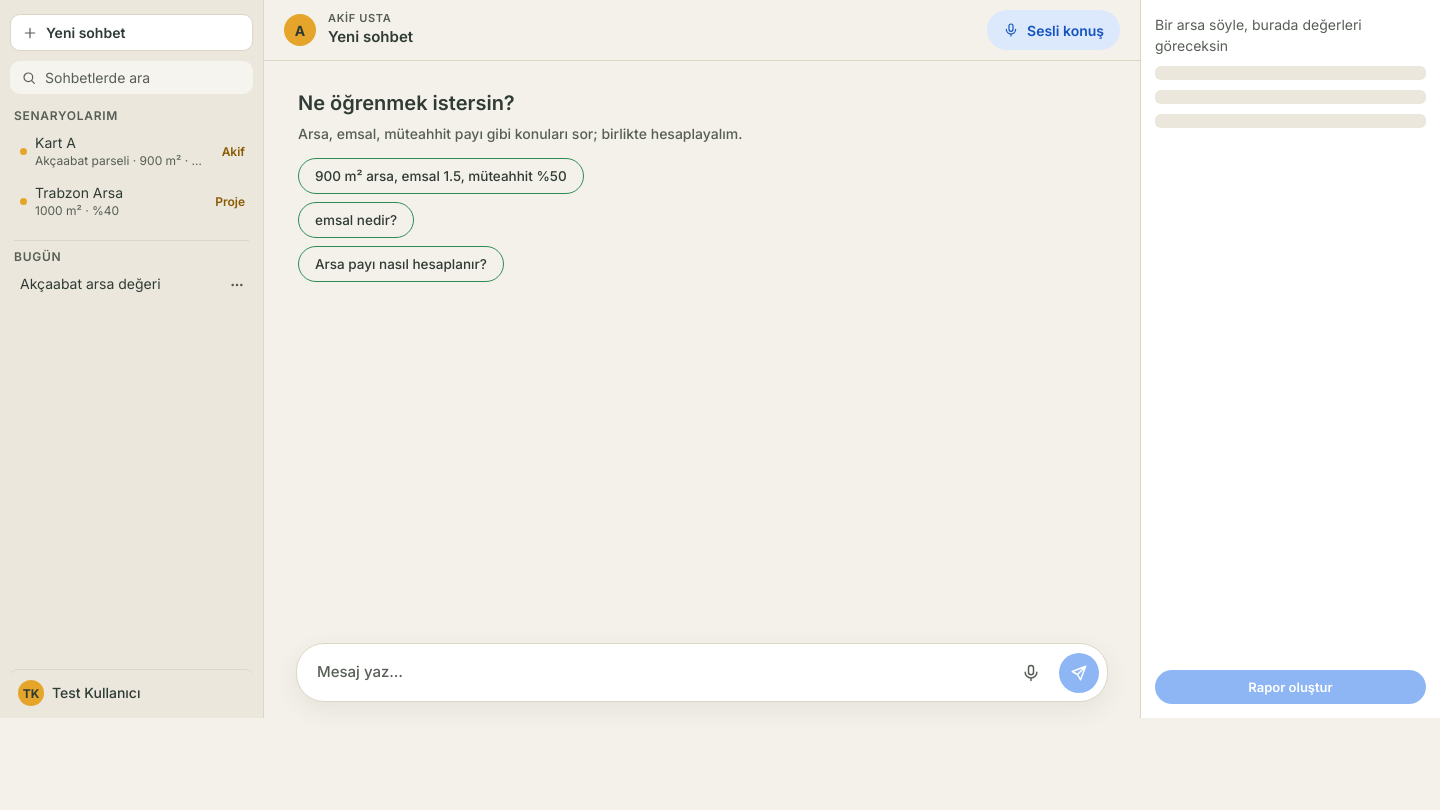
it: canlı tur paneldeki değeri değiştirirse data-changed çıkar ve ~1,6 sn sonra temizlenir
The image size is (1440, 810).
Click the button "Akçaabat arsa değeri" at (116, 285), box [10,268,223,301]
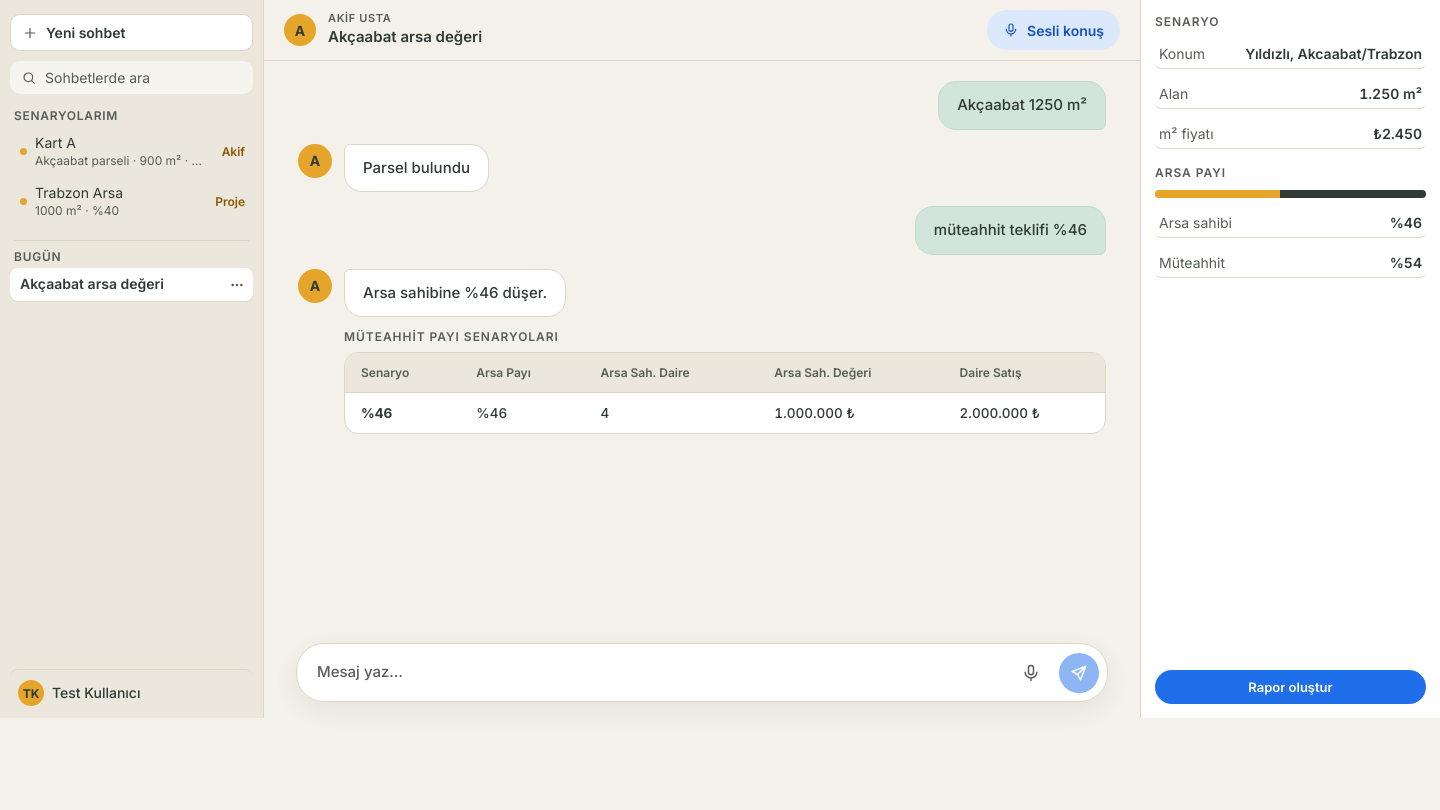
Expected: the text "Arsa sahibine %46 düşer." is shown, [344,268,566,317]
Type "yüzde elli yap" into the text box at (660, 672), box [317,652,1003,693]
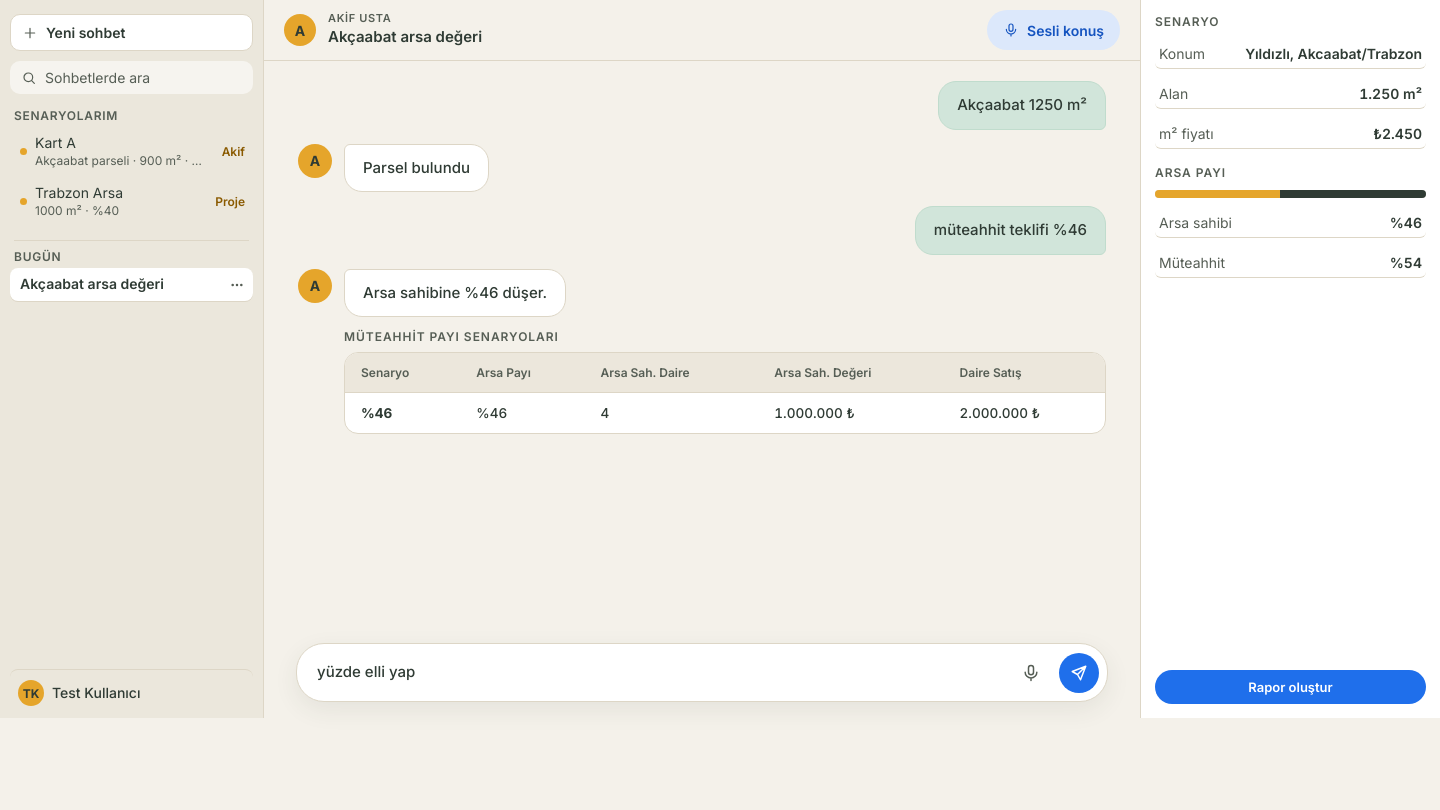
Submit the form, box [296,643,1108,702]
Wait 1700 ms
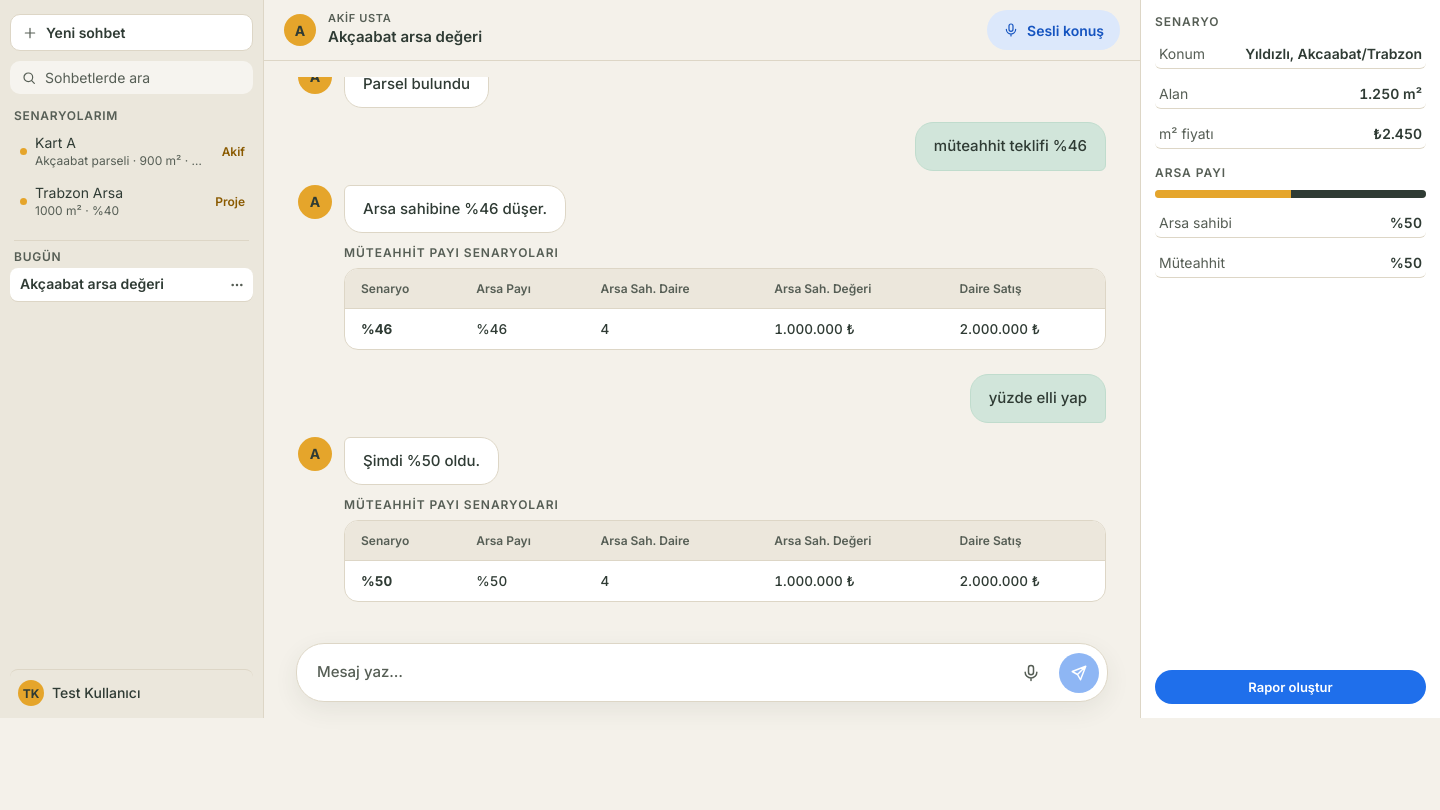
Expected: the text "Şimdi %50 oldu." is shown, [344,436,499,485]
Expected: the 1st text "%50" is shown, [1390,214,1422,231]
